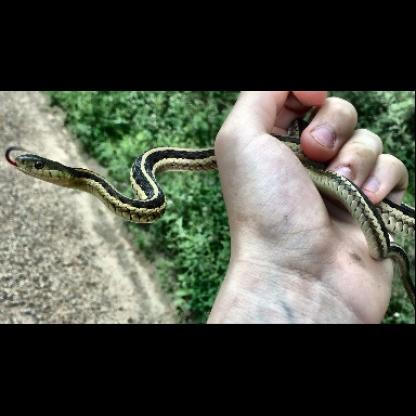Snake: (13, 129, 396, 258)
